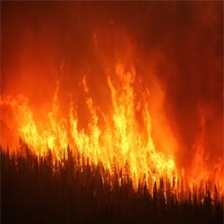fire: (7, 72, 224, 199)
